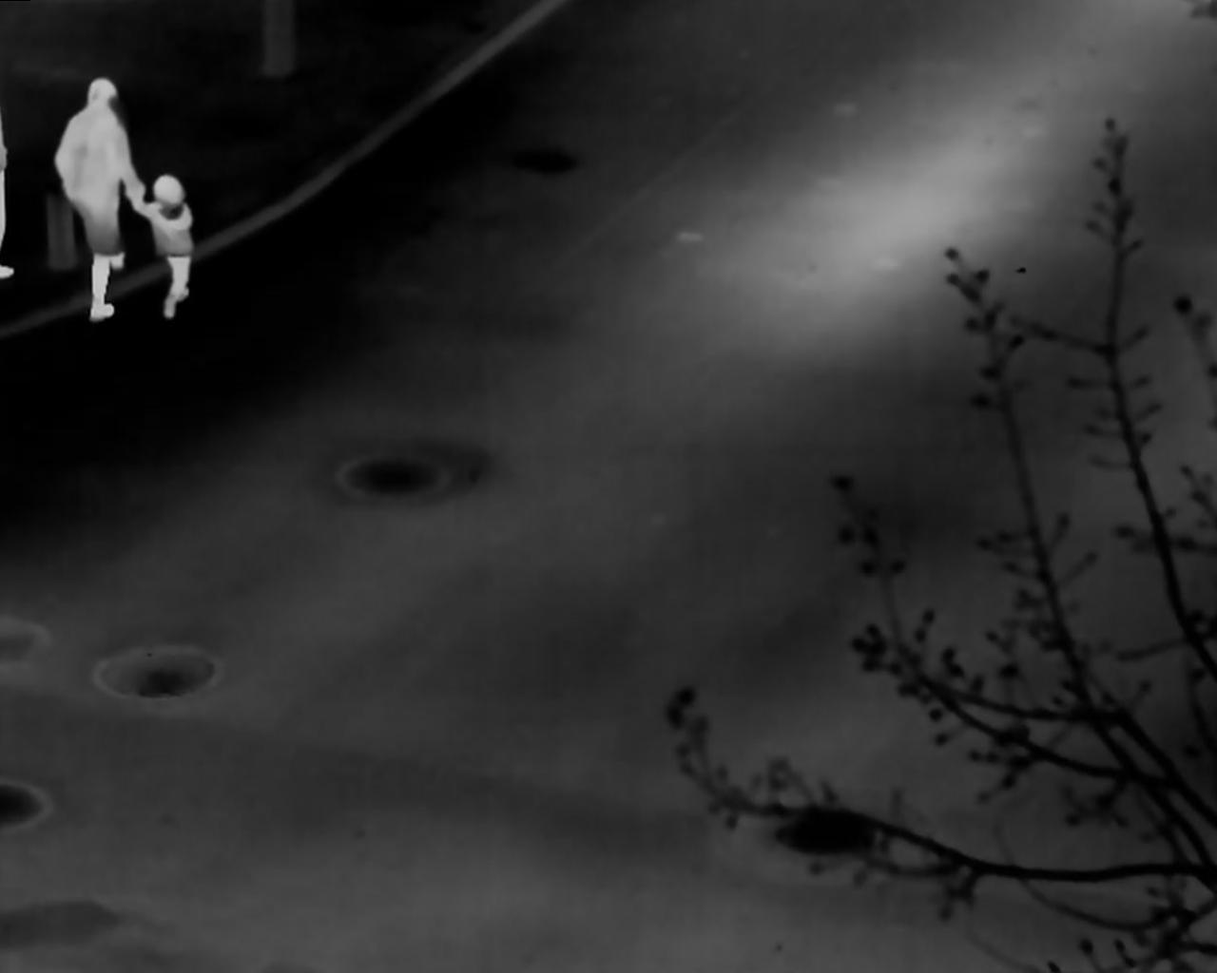person: (53, 74, 142, 325), (128, 171, 193, 320)
